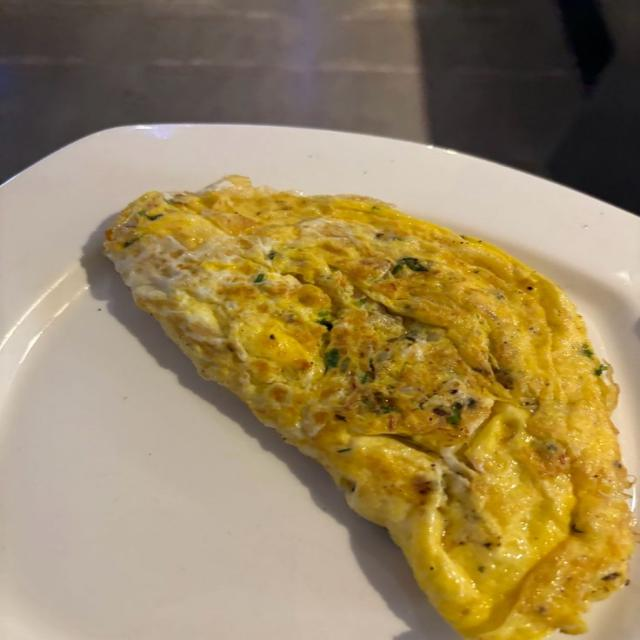omelette: (106, 177, 633, 639)
